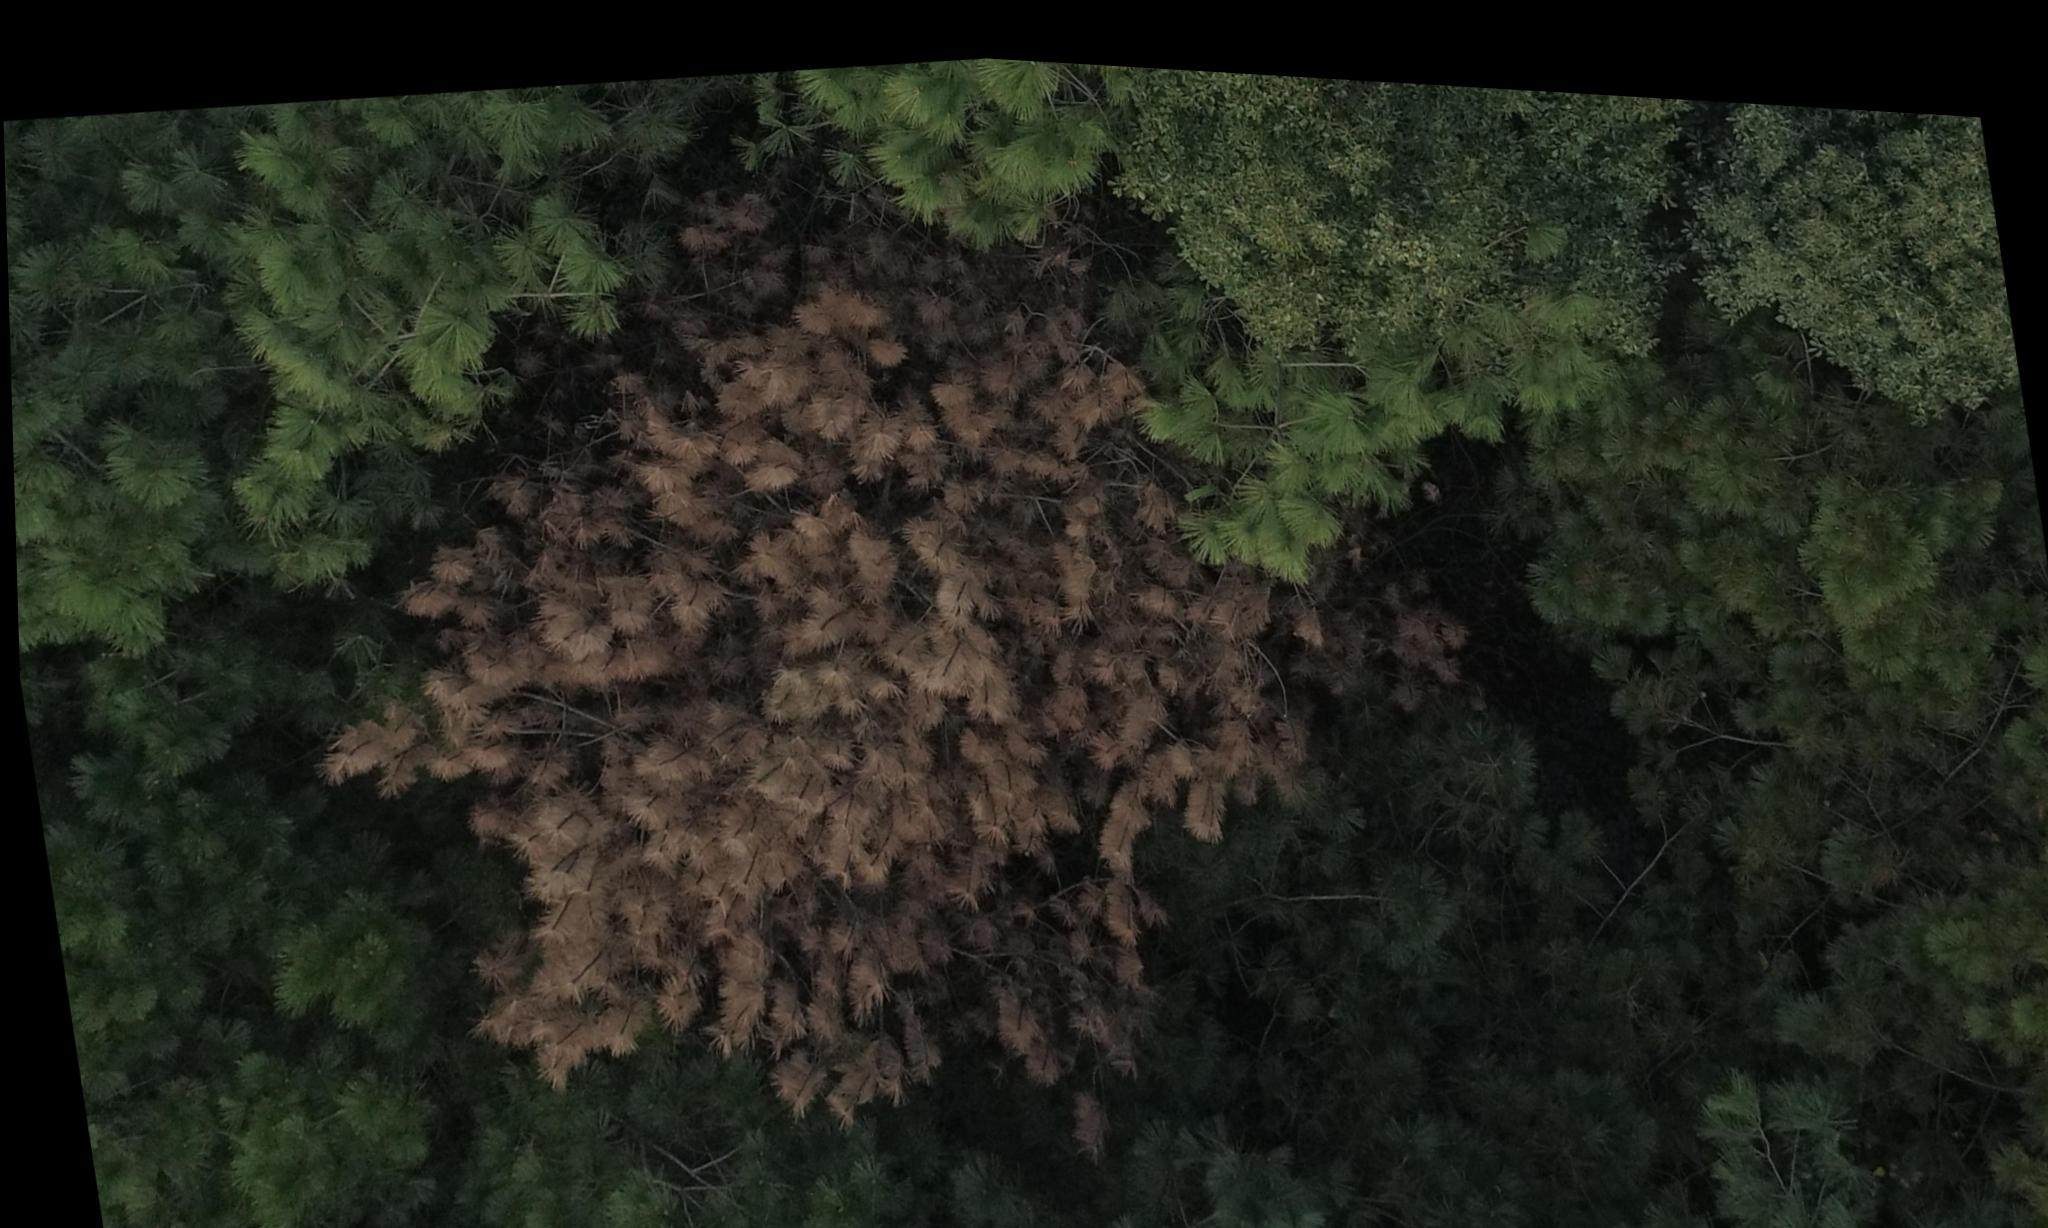heavy: (266, 170, 1427, 1197)
